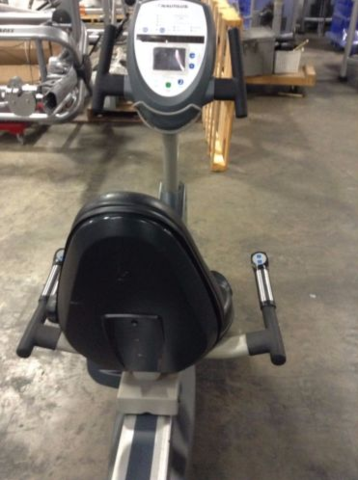gym_bike: (55, 9, 285, 392)
